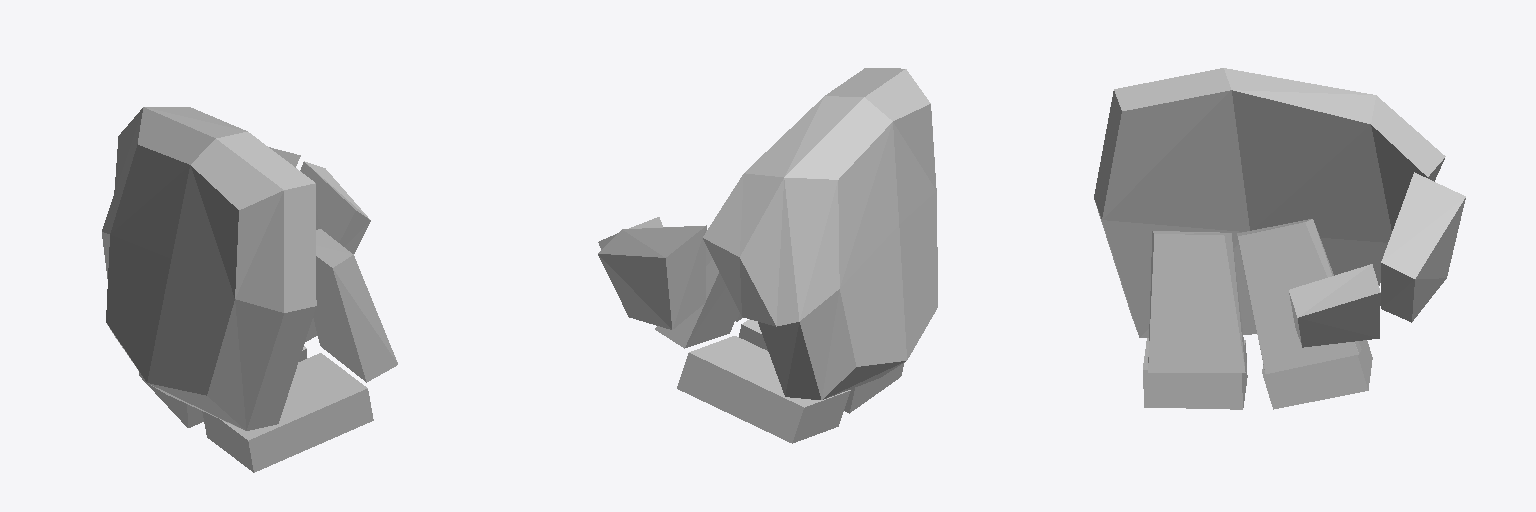
File: HandLN.obj
The picture shows the model from 3 angles: view 1: azimuth 30°, elevation 25°; view 2: azimuth 150°, elevation 25°; view 3: azimuth 270°, elevation 25°; orthographic projection.
Parts seen in each view (by area): view 1: HandL_Cube.005; view 2: HandL_Cube.005; view 3: HandL_Cube.005.
Boxes of the visible parts, x1,y1,x2,y2 form: HandL_Cube.005: [102, 107, 397, 472]; HandL_Cube.005: [598, 68, 937, 443]; HandL_Cube.005: [1094, 68, 1465, 409].
Bounding box in the file's own units: 0.0829 × 0.0989 × 0.1078.